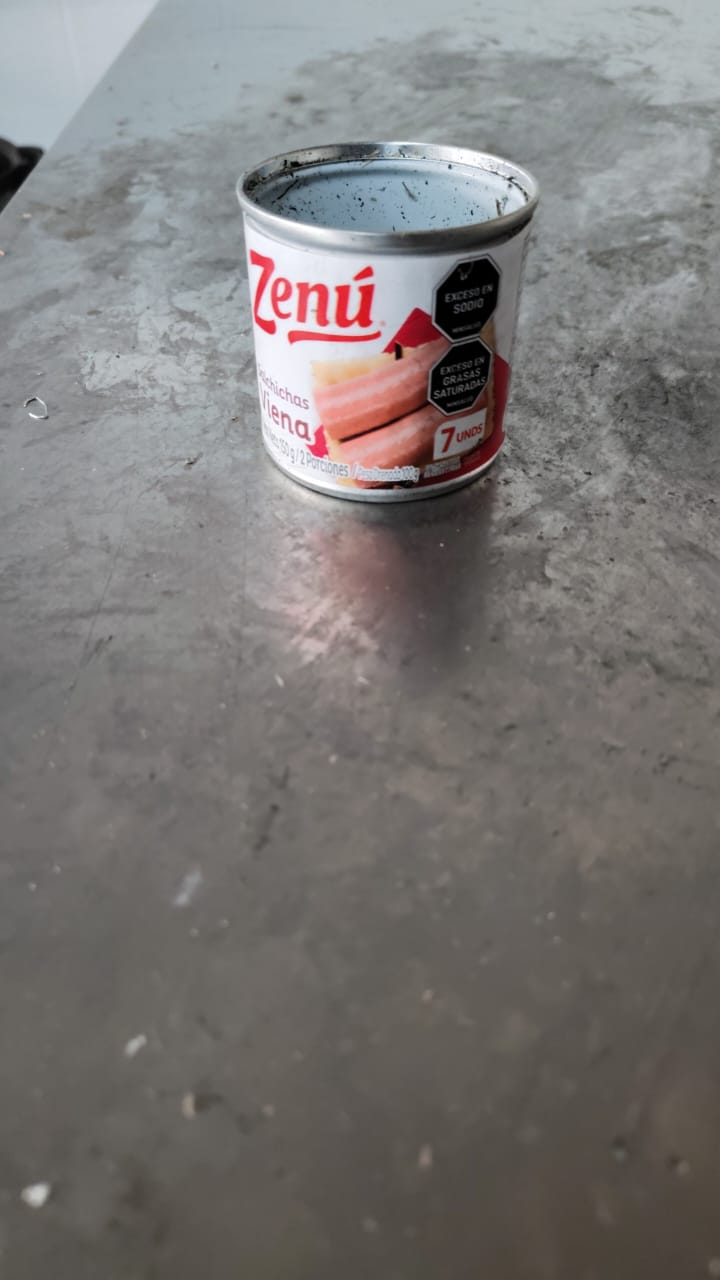Metal: (236, 143, 537, 505)
